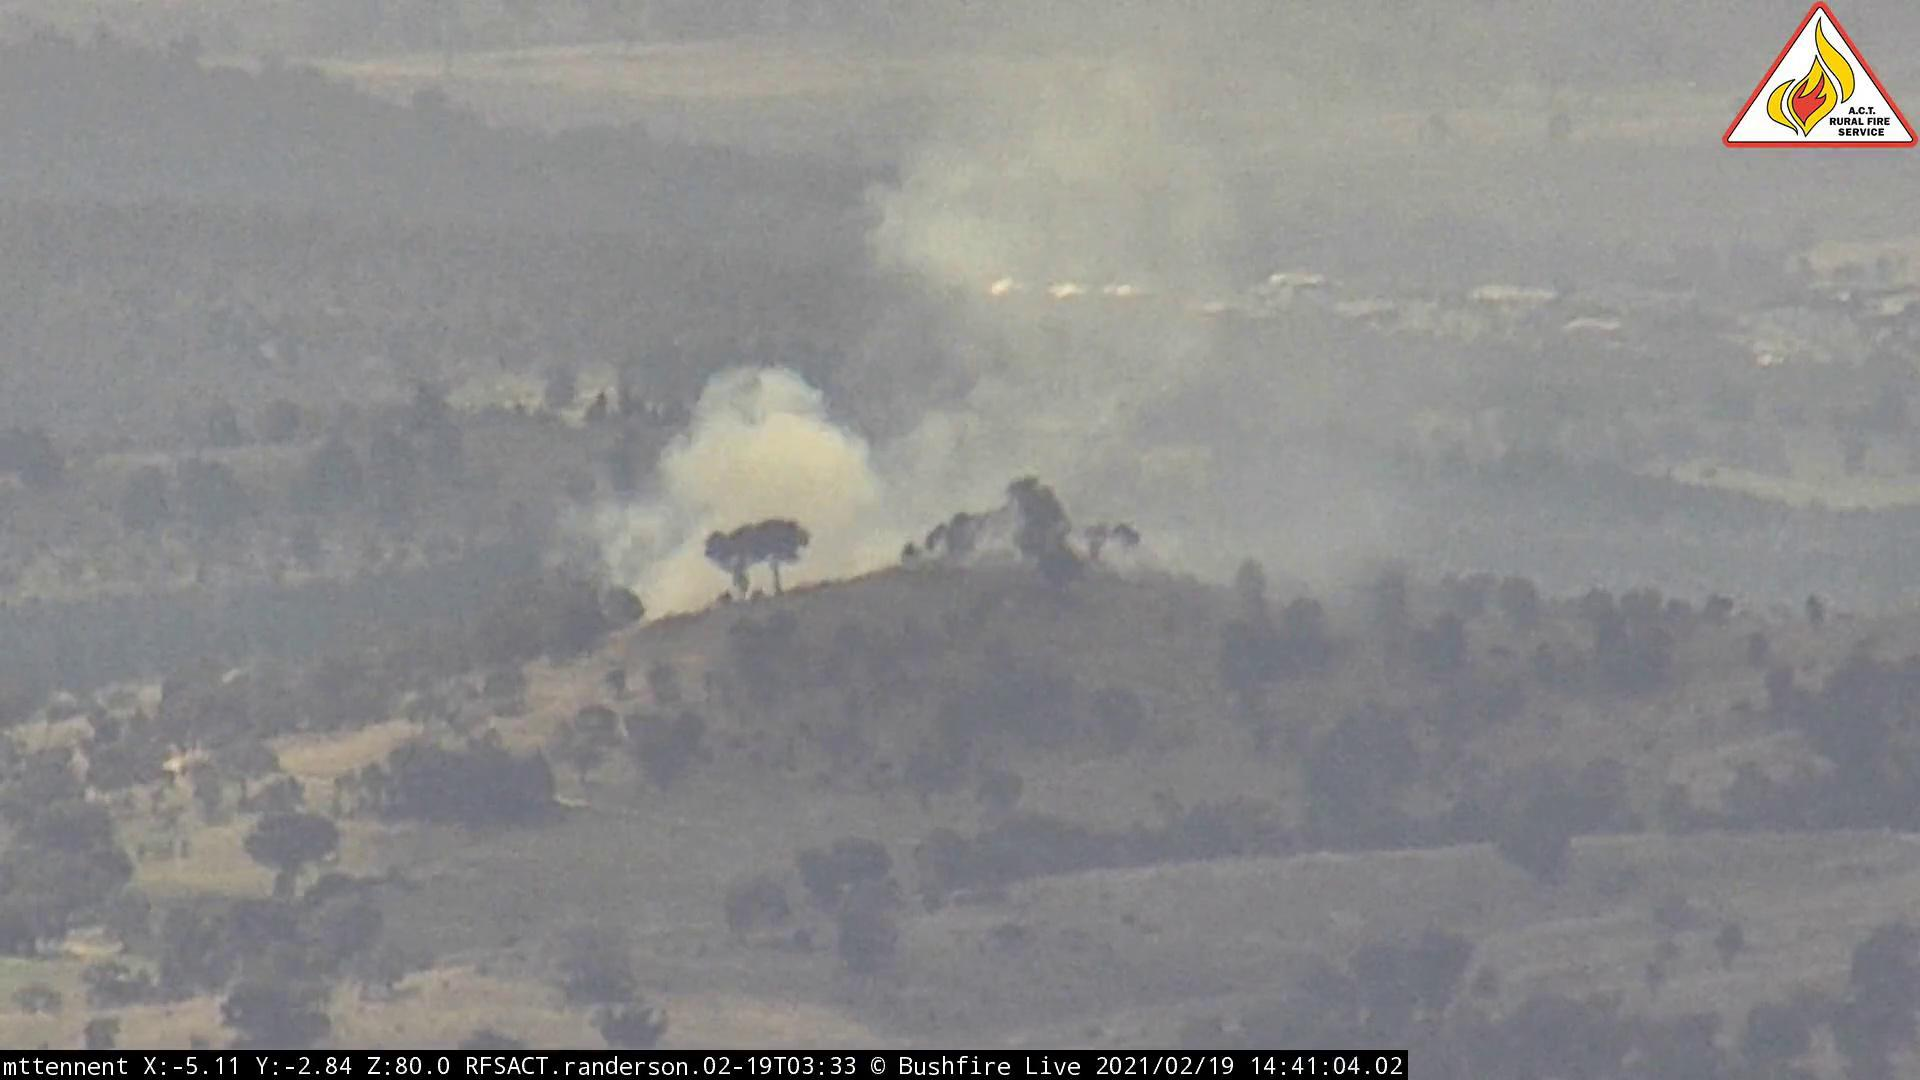Smoke: (582, 113, 1422, 642)
